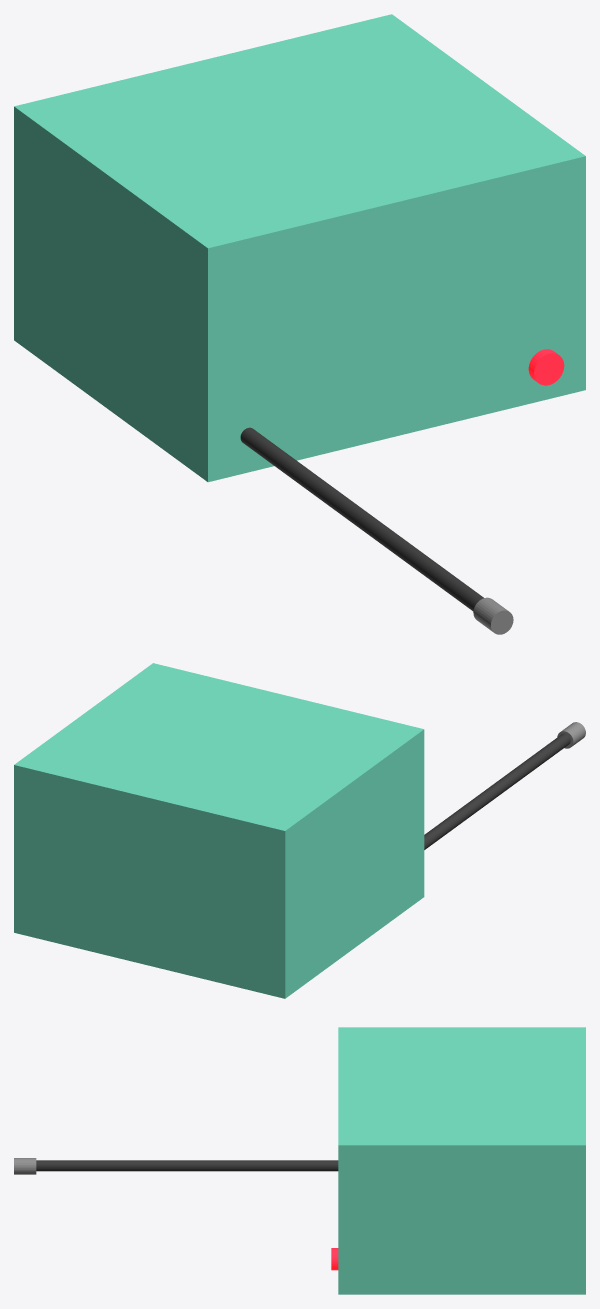
File: controller.glb
3 renders of one model, top to bottom at view 1: azimuth 30°, elevation 25°; view 2: azimuth 150°, elevation 25°; view 3: azimuth 270°, elevation 25°, orthographic. The views are drawn at different scales.
Visible parts, largest first — view 1: Cube, Cylinder.011, Cylinder.012, Cylinder.010; view 2: Cube, Cylinder.011; view 3: Cube, Cylinder.011, Cylinder.012.
Boxes of the visible parts, bbox=[...] form: Cube: bbox=[14, 14, 585, 482]; Cylinder.011: bbox=[240, 427, 483, 611]; Cylinder.012: bbox=[473, 597, 513, 634]; Cylinder.010: bbox=[528, 349, 564, 385]; Cube: bbox=[14, 663, 424, 998]; Cylinder.011: bbox=[424, 733, 570, 849]; Cube: bbox=[338, 1027, 585, 1294]; Cylinder.011: bbox=[36, 1160, 338, 1171]; Cylinder.012: bbox=[14, 1158, 36, 1174].
Bounding box in the file's own units: 0.4491 × 0.2656 × 0.9222.
